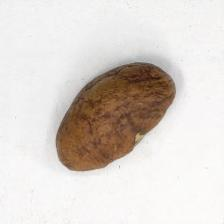NG: (125, 121, 151, 153)
